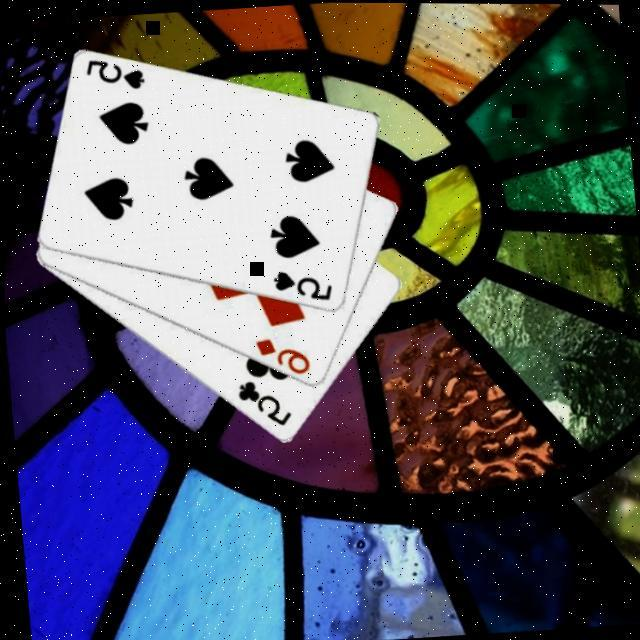5C: (230, 372, 293, 430)
5S: (268, 262, 334, 304), (81, 51, 147, 93)
9D: (248, 330, 312, 378)
